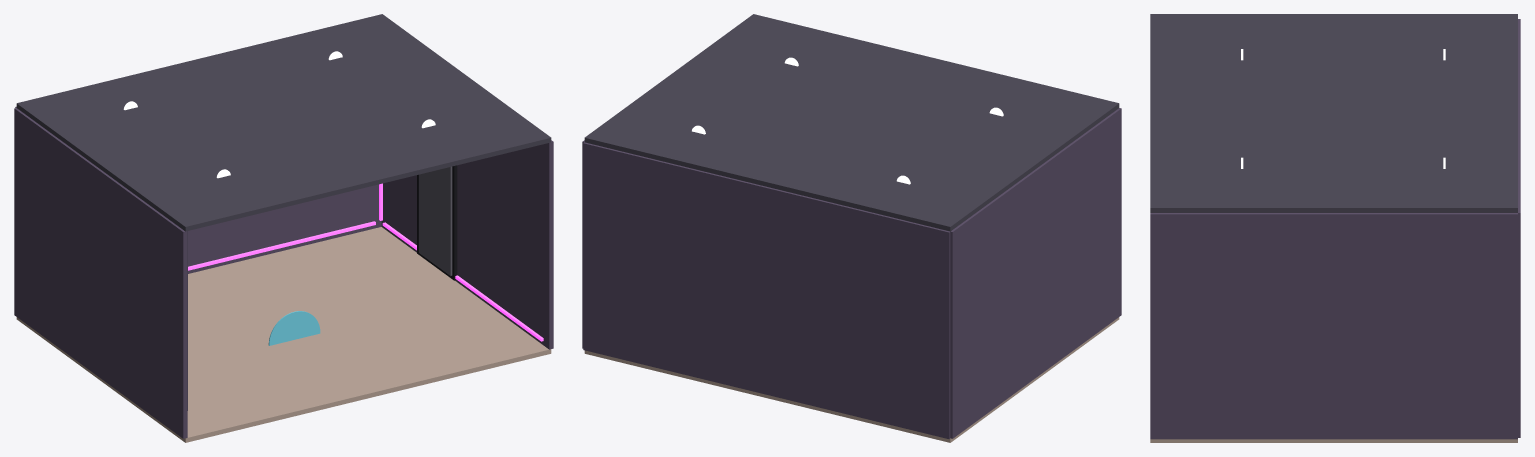
Rendered from studio_room.glb.
3 renders of one model, left to right at view 1: azimuth 30°, elevation 25°; view 2: azimuth 150°, elevation 25°; view 3: azimuth 270°, elevation 25°, orthographic. The views are drawn at different scales.
Visible parts, largest first — view 1: ceiling, floor_5m_x_4m, left_wall, right_wall, back_wall, full_length_mirror, avatar_spawn_marker, led_back_floor, led_right_floor, mirror_frame_side_b; view 2: back_wall, ceiling, left_wall, floor_5m_x_4m; view 3: right_wall, ceiling, floor_5m_x_4m, back_wall.
Part boxes in pixels (bbox=[...]): ceiling: bbox=[16, 14, 551, 231]; floor_5m_x_4m: bbox=[16, 227, 551, 442]; left_wall: bbox=[14, 108, 187, 438]; right_wall: bbox=[381, 140, 553, 349]; back_wall: bbox=[15, 106, 381, 273]; full_length_mirror: bbox=[419, 166, 452, 275]; avatar_spawn_marker: bbox=[268, 311, 320, 345]; led_back_floor: bbox=[188, 221, 375, 270]; led_right_floor: bbox=[382, 222, 543, 341]; mirror_frame_side_b: bbox=[452, 165, 457, 280]; back_wall: bbox=[583, 142, 950, 438]; ceiling: bbox=[584, 14, 1119, 231]; left_wall: bbox=[950, 108, 1121, 438]; floor_5m_x_4m: bbox=[584, 317, 1119, 442]; right_wall: bbox=[1150, 213, 1517, 439]; ceiling: bbox=[1150, 14, 1517, 212]; floor_5m_x_4m: bbox=[1150, 439, 1517, 442]; back_wall: bbox=[1518, 19, 1520, 437].
Size of the model in its own units: 5.06 by 3.18 by 4.03.
